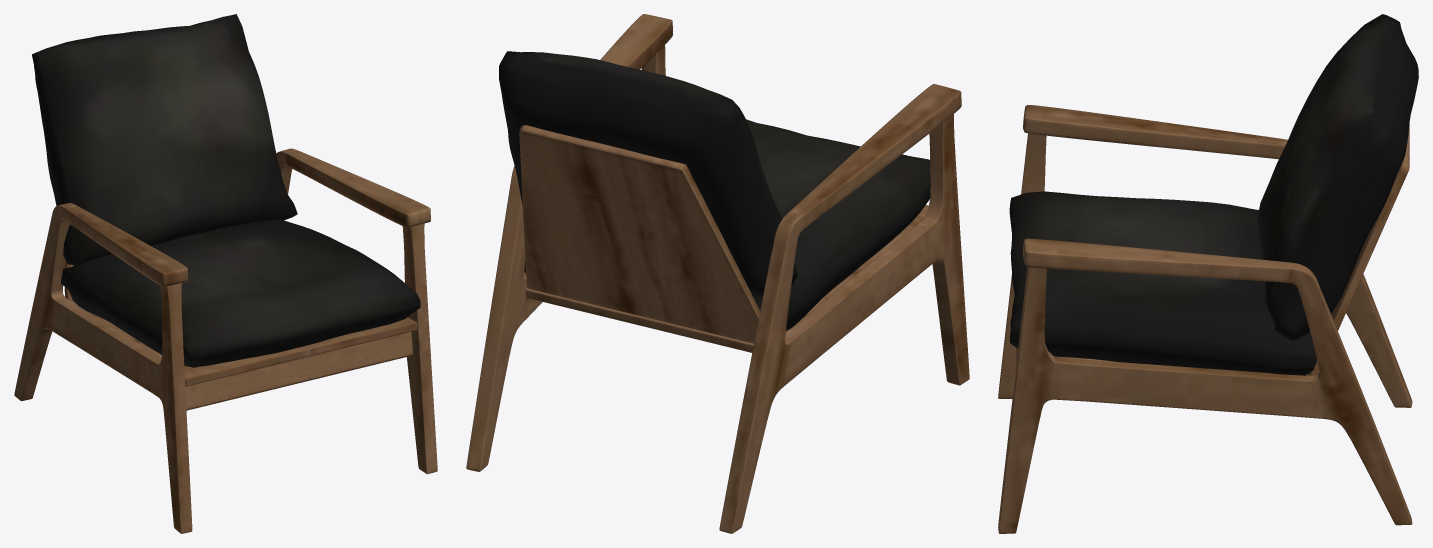
Rendered from office_chair.glb.
3 views of the same model, side by side, from view 1: azimuth 30°, elevation 25°; view 2: azimuth 150°, elevation 25°; view 3: azimuth 270°, elevation 25° (orthographic). The views are drawn at different scales.
Visible parts, largest first — view 1: modern_arm_chair_01; view 2: modern_arm_chair_01; view 3: modern_arm_chair_01.
Boxes of the visible parts, x1=… form: modern_arm_chair_01: x1=14, y1=14, x2=437, y2=533; modern_arm_chair_01: x1=466, y1=14, x2=969, y2=533; modern_arm_chair_01: x1=998, y1=14, x2=1418, y2=533.
Size of the model in its own units: 0.8203 by 1.02 by 0.9866.
Materials: 2 (2 with a texture image).
